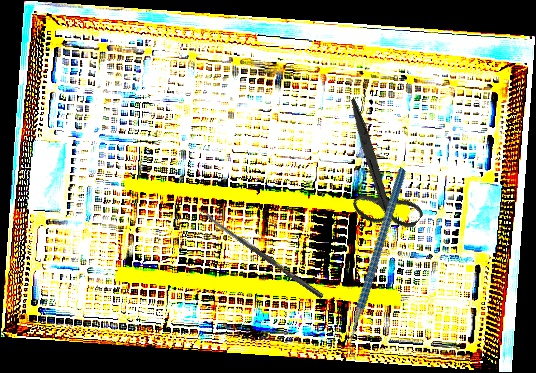Chopper: (293, 167, 464, 361)
Iris Scissors: (299, 97, 454, 246)
Surgical Spoon: (199, 209, 325, 299)
